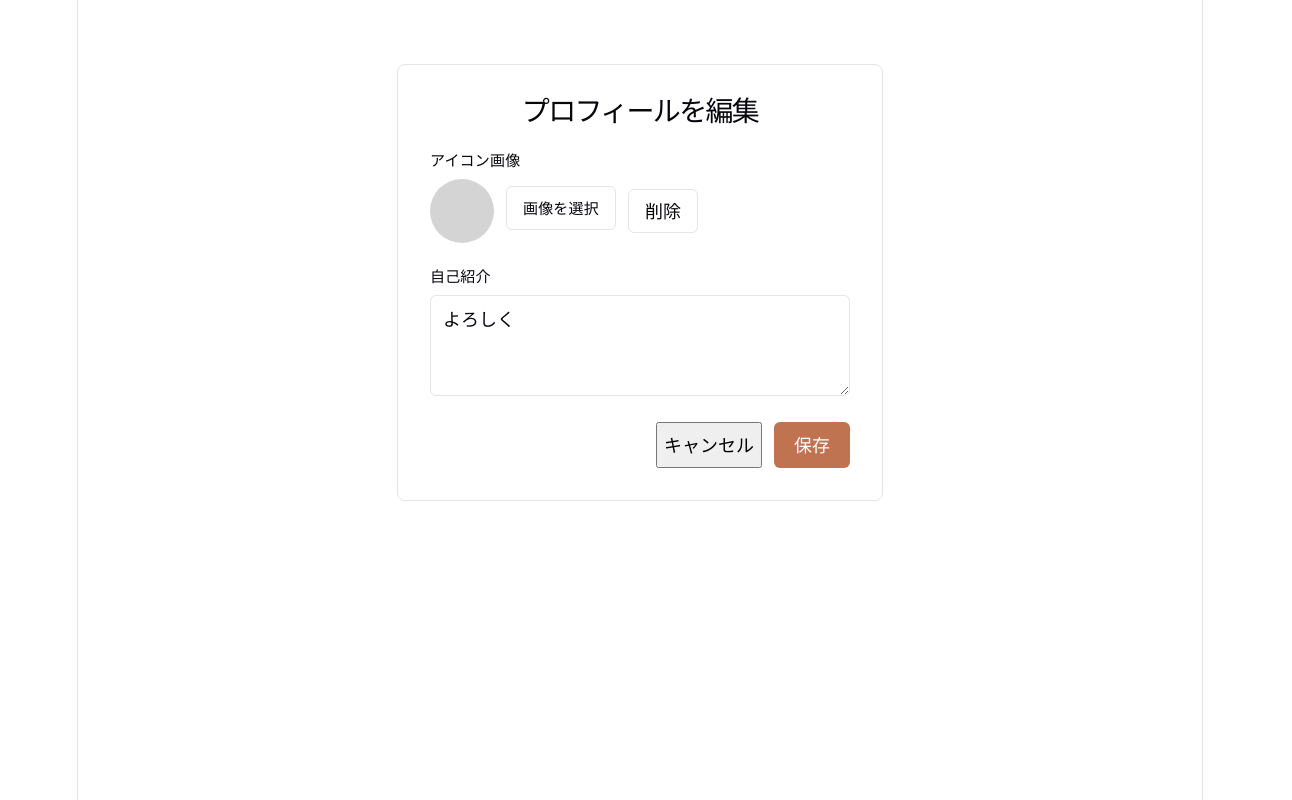
ProfileEditView › 削除ボタンで即座にアイコン画像を削除する
Click the button with test id "profile-edit-avatar-remove".
click(663, 211)  # box [628,189,698,233]
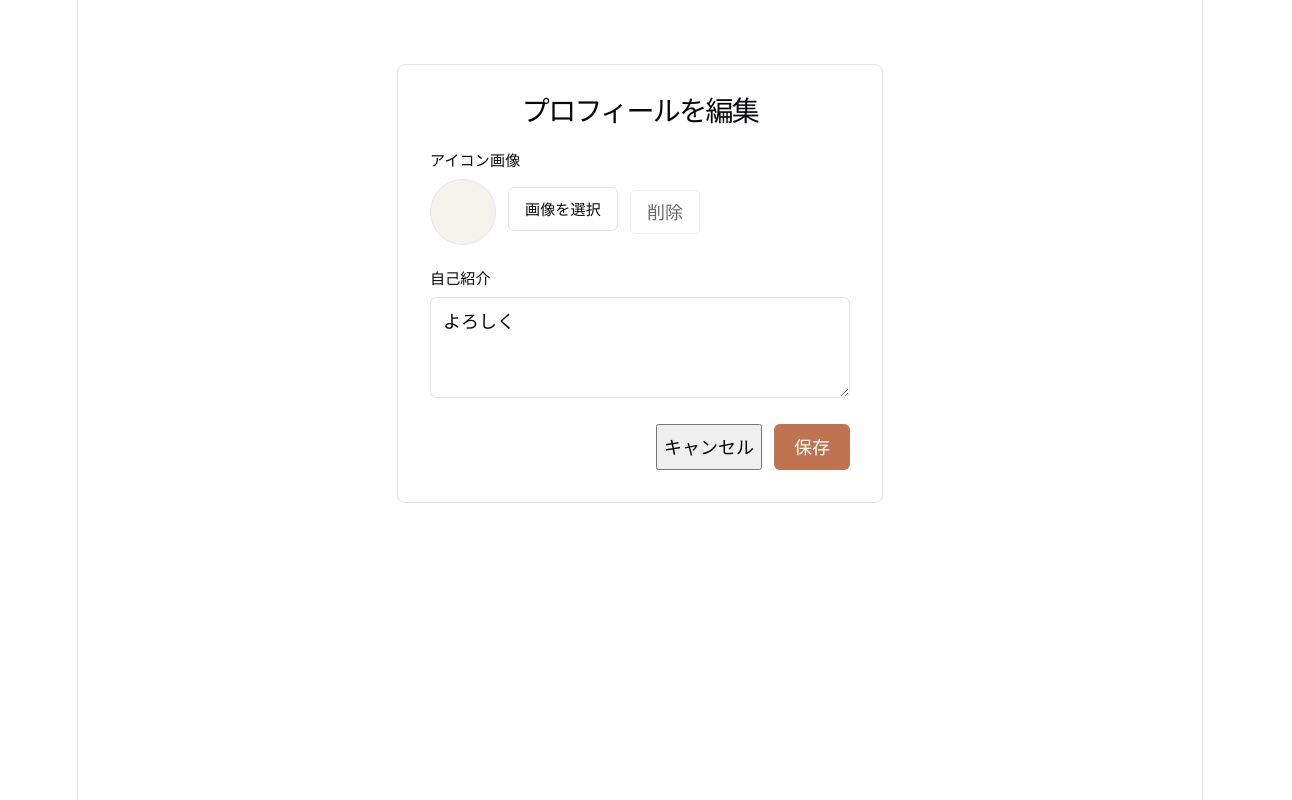
Result: the picture with test id "profile-edit-avatar-image" is gone
